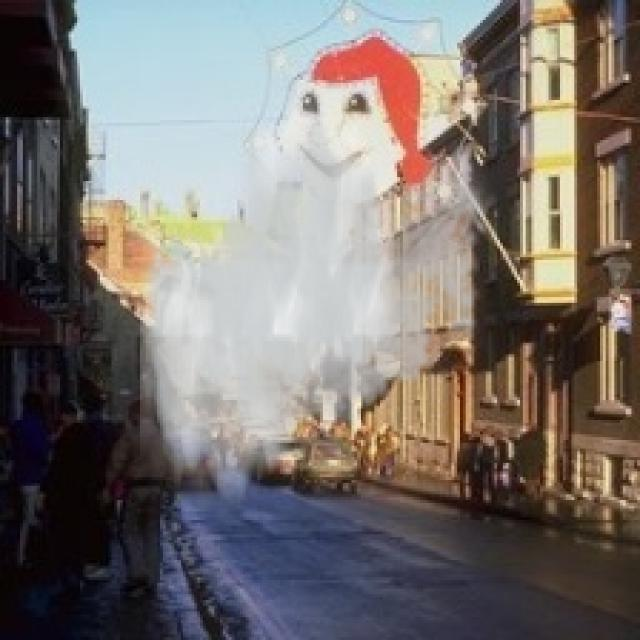smoke: (140, 89, 500, 512)
